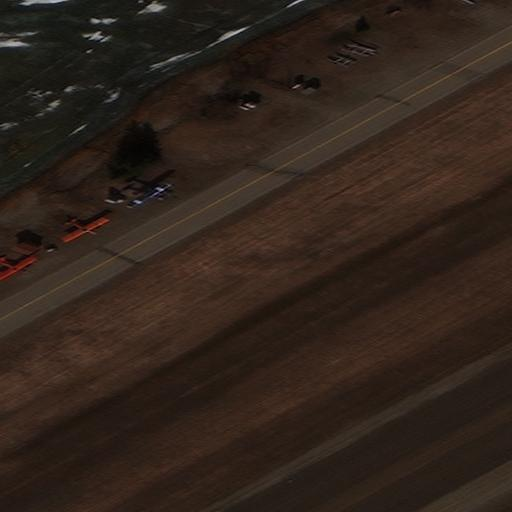Small Civil Transport: (127, 184, 172, 208), (66, 219, 110, 243), (0, 256, 37, 280)
